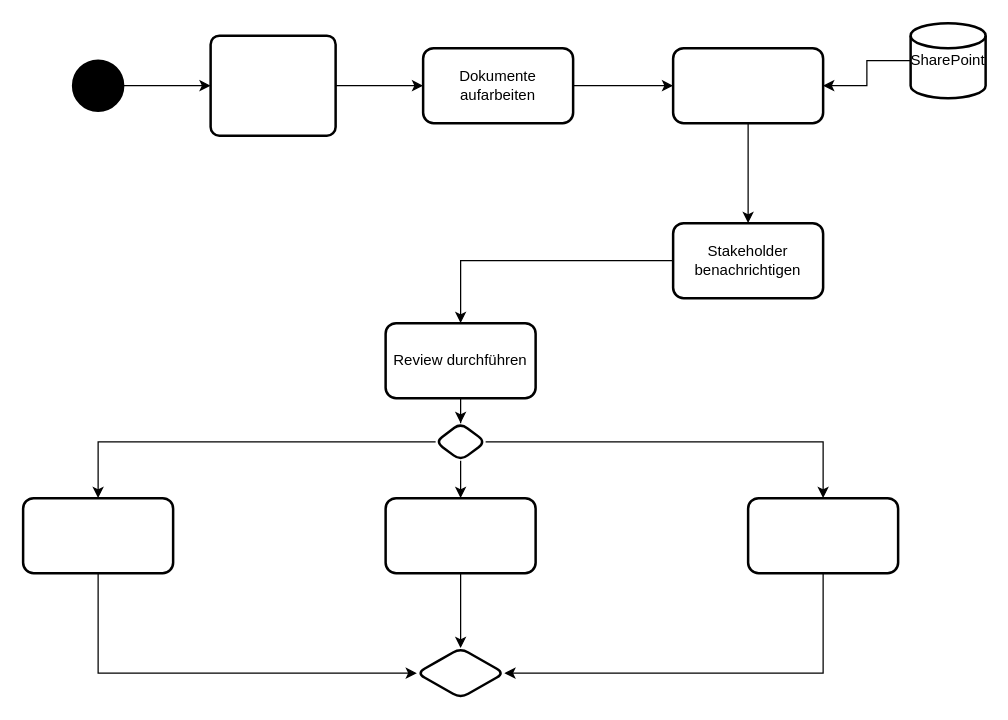
This 1008x720 diagram has some shape labels left out. The box of each missing label's shape, as (x1, y1, x2, y2) in pixels:
Dokumente ablegen: (671, 46, 824, 124)
Fachfeinkonzept erstellen: (209, 34, 336, 136)
